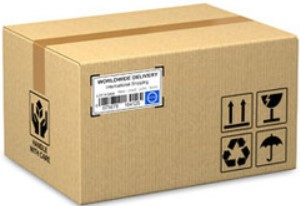stock: (4, 4, 298, 206)
